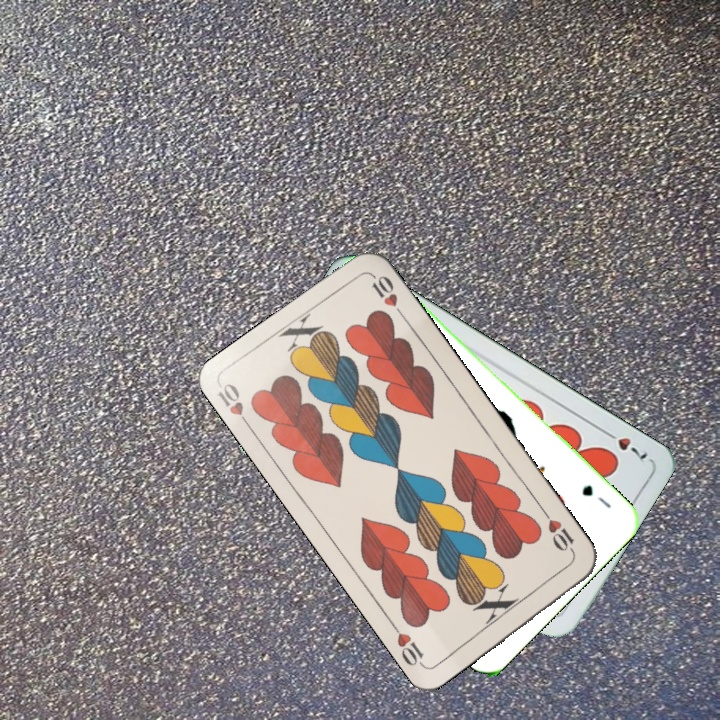GU: (578, 480, 614, 511)
H10: (213, 379, 255, 433), (539, 507, 578, 559)
H7: (598, 425, 650, 463)
